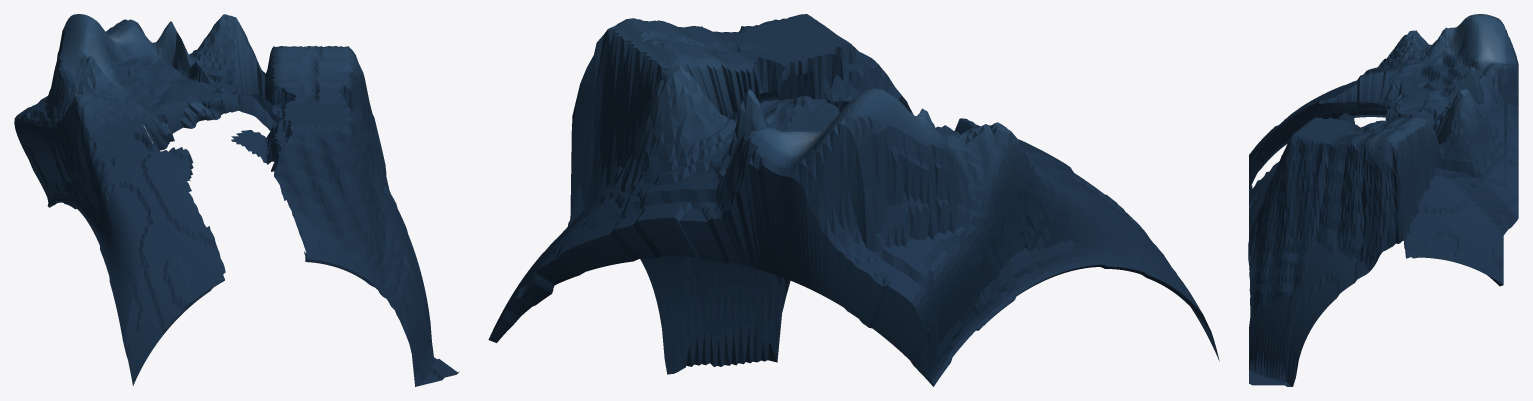
File: citadel-master-terrain-r08.glb
3 renders of one model, left to right at view 1: azimuth 30°, elevation 25°; view 2: azimuth 150°, elevation 25°; view 3: azimuth 270°, elevation 25°, orthographic. The views are drawn at different scales.
Parts seen in each view (by area): view 1: citadel-oskar-grid-mountain-surface, citadel-coastal-cliff-seal; view 2: citadel-oskar-grid-mountain-surface, citadel-coastal-cliff-seal; view 3: citadel-oskar-grid-mountain-surface, citadel-coastal-cliff-seal.
Part boxes in pixels (x1,y1,x2,y2): citadel-oskar-grid-mountain-surface: [14, 14, 459, 386]; citadel-coastal-cliff-seal: [140, 31, 286, 180]; citadel-oskar-grid-mountain-surface: [488, 14, 1219, 386]; citadel-coastal-cliff-seal: [683, 58, 973, 134]; citadel-oskar-grid-mountain-surface: [1248, 14, 1518, 386]; citadel-coastal-cliff-seal: [1319, 71, 1454, 144].
Size of the model in its own units: 222 by 205 by 185.
